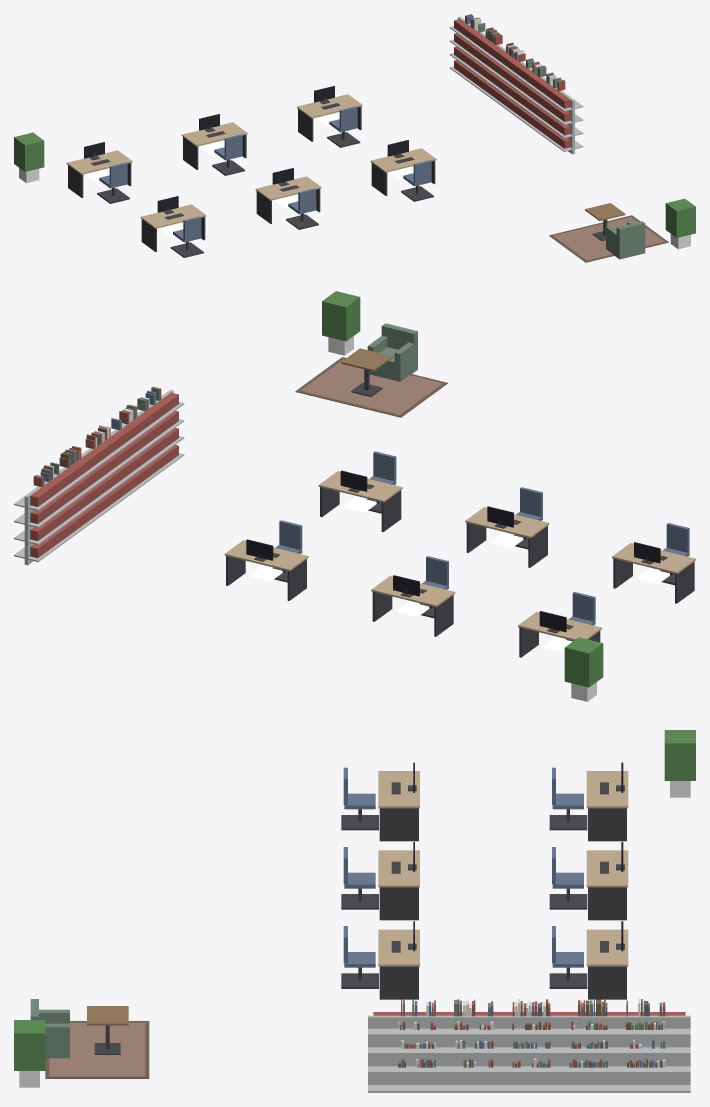
Rendered from fine-s1.glb.
3 views of the same model, one above another, from view 1: azimuth 30°, elevation 25°; view 2: azimuth 150°, elevation 25°; view 3: azimuth 270°, elevation 25° (orthographic). The views are drawn at different scales.
Parts seen in each view (by area): view 1: soft-s1, shelving.005, shelving.001, shelving.004, office-desk-real.005, office-desk-real.004, office-desk-real.003, office-desk-real.001, shelving.003, office-desk-real.000, office-desk-real.002, shelving.002 (+10 smaller); view 2: soft-s1, shelving.001, office-desk-real.005, office-desk-real.004, office-desk-real.001, office-desk-real.003, office-desk-real.002, shelving.003, shelving.004, shelving.005, shelving.002, plant-medium.001 (+10 smaller); view 3: soft-s1, shelving.001, shelving.005, shelving.004, shelving.003, shelving.002, office-desk-real.000, office-desk-real.001, office-desk-real.002, office-desk-real.003, office-desk-real.005, office-desk-real.004 (+10 smaller).
Part boxes in pixels (<box>): soft-s1: <box>465,14,668,262</box>; shelving.005: <box>531,77,583,154</box>; shelving.001: <box>449,16,489,91</box>; shelving.004: <box>510,63,552,136</box>; office-desk-real.005: <box>370,140,436,195</box>; office-desk-real.004: <box>255,168,321,223</box>; office-desk-real.003: <box>140,196,206,251</box>; office-desk-real.001: <box>181,114,247,169</box>; shelving.003: <box>491,46,532,121</box>; office-desk-real.000: <box>66,142,132,197</box>; office-desk-real.002: <box>297,86,362,141</box>; shelving.002: <box>470,34,509,106</box>; soft-s1: <box>33,357,447,487</box>; shelving.001: <box>14,467,80,565</box>; office-desk-real.005: <box>318,470,402,532</box>; office-desk-real.004: <box>465,506,549,567</box>; office-desk-real.001: <box>371,575,455,636</box>; office-desk-real.003: <box>612,542,695,603</box>; office-desk-real.002: <box>224,539,308,600</box>; shelving.003: <box>82,429,131,523</box>; shelving.004: <box>108,411,158,504</box>; shelving.005: <box>133,389,184,484</box>; shelving.002: <box>54,448,106,539</box>; plant-medium.001: <box>564,637,603,701</box>; soft-s1: <box>45,998,665,1078</box>; shelving.001: <box>597,1012,690,1092</box>; shelving.005: <box>368,1012,461,1092</box>; shelving.004: <box>425,1012,518,1092</box>; shelving.003: <box>482,1012,576,1092</box>; shelving.002: <box>539,1012,633,1092</box>; office-desk-real.000: <box>586,762,628,841</box>; office-desk-real.001: <box>586,842,628,920</box>; office-desk-real.002: <box>586,921,628,999</box>; office-desk-real.003: <box>378,762,419,841</box>; office-desk-real.005: <box>378,921,419,999</box>; office-desk-real.004: <box>378,842,419,920</box>.
Size of the model in its own units: 14.18 by 1.93 by 13.1.
